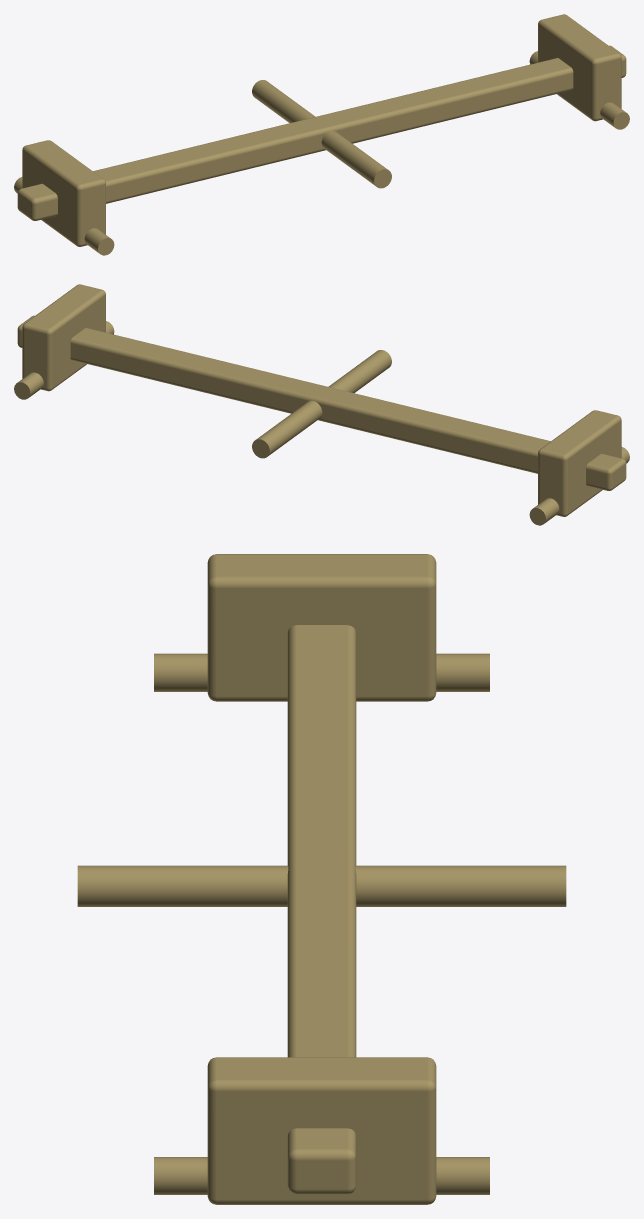
File: water-clock-garden-and-hydraulic-puzzles-tipping-balan-09903af7__31937.glb
The picture shows the model from 3 angles, top to bottom: view 1: azimuth 30°, elevation 25°; view 2: azimuth 150°, elevation 25°; view 3: azimuth 270°, elevation 25°; orthographic projection. The views are drawn at different scales.
Visible parts, largest first — view 1: tipping-balance-water-timer; view 2: tipping-balance-water-timer; view 3: tipping-balance-water-timer.
Part boxes in pixels (x1,y1,x2,y2): tipping-balance-water-timer: (14, 14, 629, 255); tipping-balance-water-timer: (14, 284, 629, 525); tipping-balance-water-timer: (77, 554, 566, 1204).
Bounding box in the file's own units: 1.8 × 0.18 × 0.6399.
